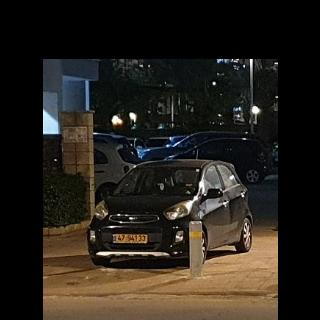LicensePlate: (116, 235, 147, 242)
